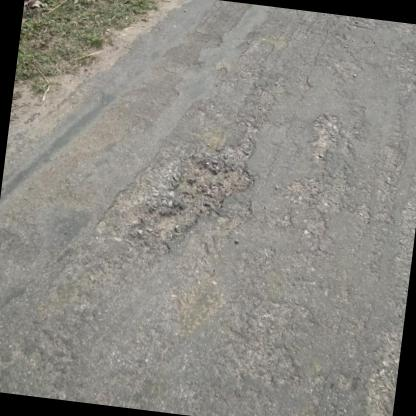pothole: (132, 148, 258, 260), (307, 110, 344, 160)
